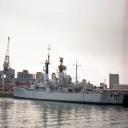Fragata: (13, 41, 109, 107)
